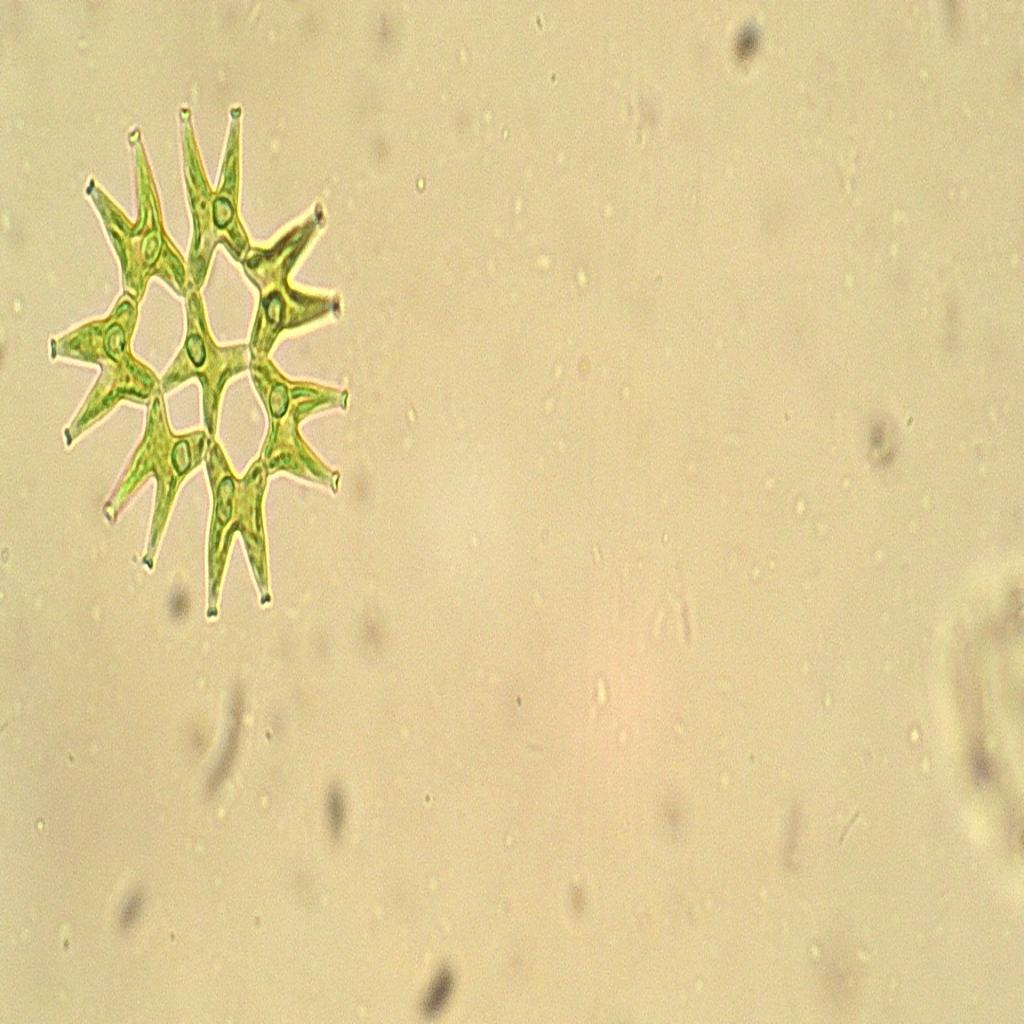Pediastrum_CTH: (47, 72, 372, 642)
